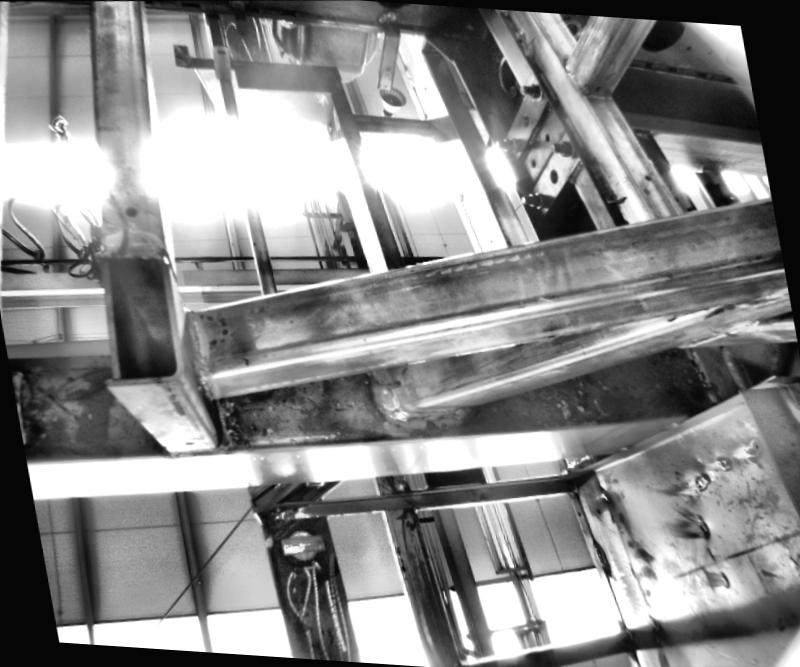bolt: (516, 75, 544, 100), (548, 137, 580, 158), (517, 187, 543, 208), (492, 133, 516, 149)
bracket: (483, 63, 600, 224), (364, 1, 410, 92), (207, 28, 231, 80)
hole: (120, 199, 140, 218), (518, 109, 532, 124), (388, 375, 404, 388), (547, 167, 558, 184), (528, 155, 537, 166), (182, 438, 193, 447), (544, 129, 552, 140), (644, 171, 653, 180), (214, 44, 223, 52), (486, 235, 494, 243), (380, 79, 387, 87), (594, 506, 602, 512), (384, 64, 391, 70), (576, 509, 580, 514), (422, 85, 425, 89)
welding: (380, 399, 473, 423), (182, 306, 208, 374), (373, 363, 403, 418), (592, 538, 606, 573), (401, 63, 415, 86), (374, 7, 397, 18)
